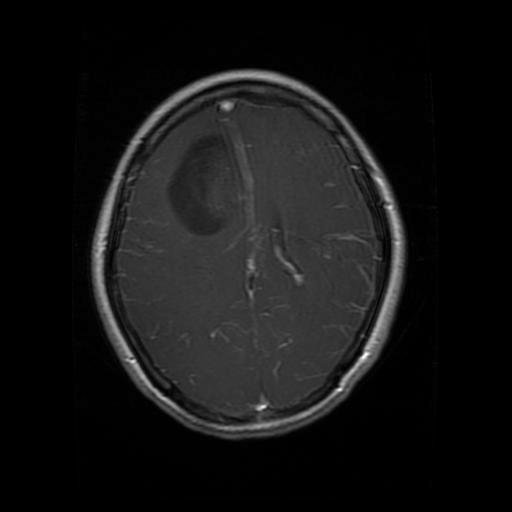Tumour-Glioma: (171, 135, 237, 238)
